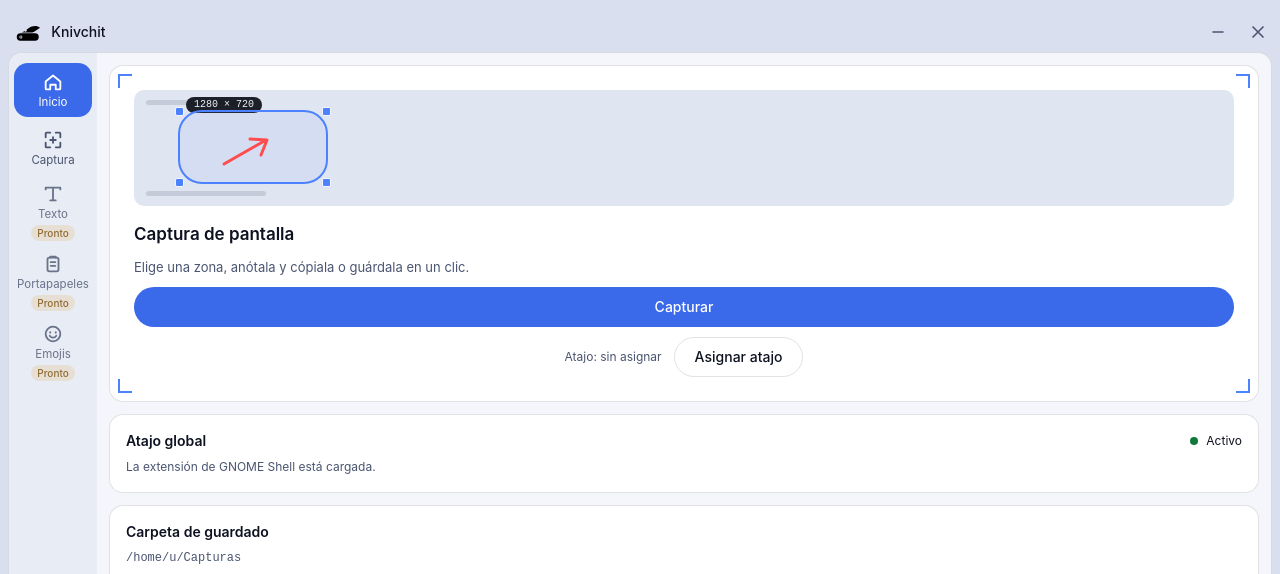
Test: permiso de captura — pulsar «Capturar» sin permiso › el rechazo «cancelled» se explica con su aviso, no con el código
The width and height of the screenshot is (1280, 574).
Click the button "Capturar".
click(684, 307)  # box [134, 287, 1234, 327]
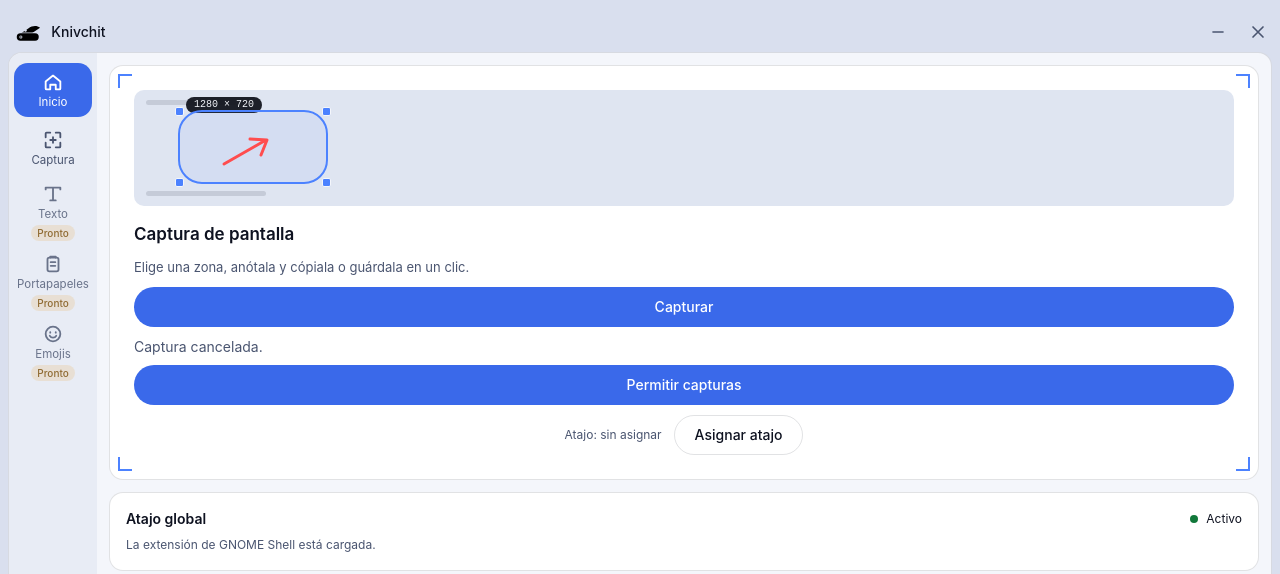
Now the text "Captura cancelada." is shown, box [134, 338, 263, 355]
